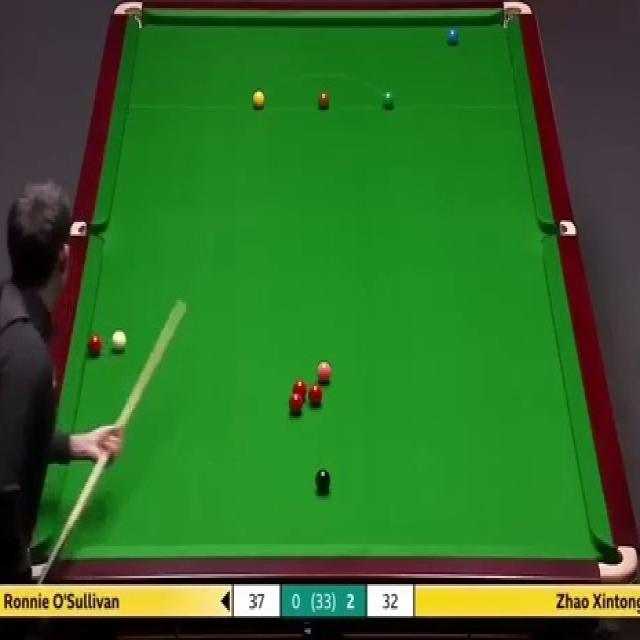black-ball: (315, 466, 331, 494)
blue-ball: (446, 24, 460, 44)
brown-ball: (317, 92, 330, 109)
green-ball: (382, 88, 396, 112)
pink-ball: (316, 360, 332, 384)
red-ball: (293, 378, 307, 402), (289, 392, 304, 414), (90, 335, 104, 358), (310, 385, 324, 405)
white-ball: (111, 330, 127, 350)
yellow-ball: (252, 89, 266, 110)
